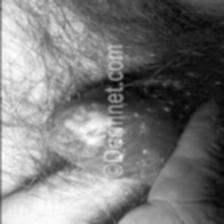Potentially Malignant Skin Tumors: (50, 103, 106, 160)
